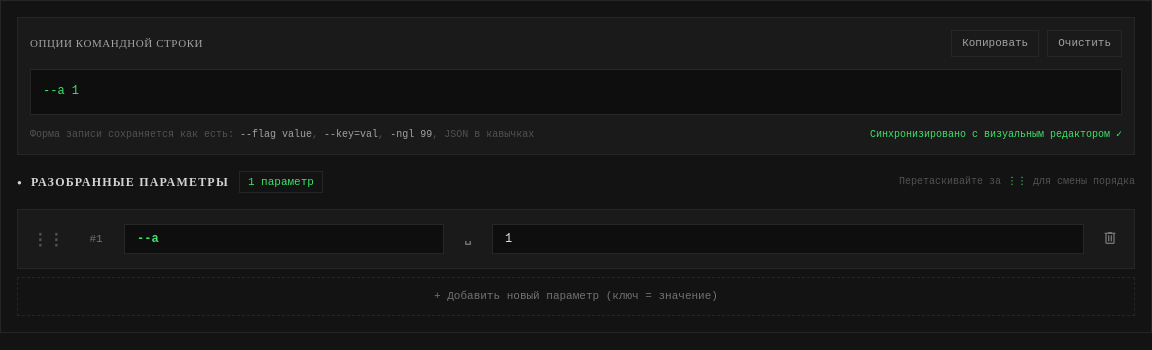
it: ArgvEditor › ошибка разбора сырой строки блокирует список
This screenshot has width=1152, height=350.
Replace the text in the text box with test id "argv-editor-raw" with "--a '1" at (576, 92), box top-left (30, 68), bottom-right (1122, 114)
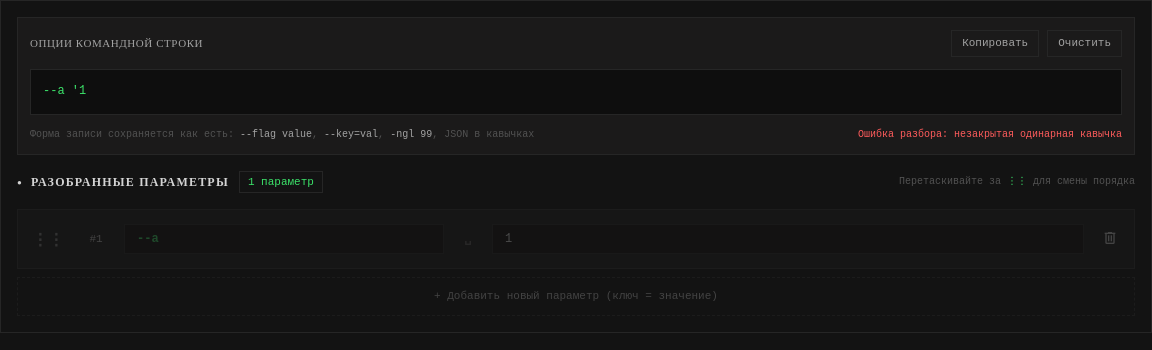
Expected: the field named "Значение #1" is disabled, top-left (492, 224), bottom-right (1084, 254)
Expected: the text with test id "argv-editor-status" shows "Ошибка разбора", top-left (858, 128), bottom-right (1122, 140)
